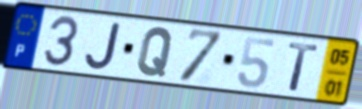3: (42, 14, 80, 69)
5: (236, 35, 276, 89)
7: (178, 27, 225, 85)
J: (83, 20, 124, 72)
Q: (135, 25, 176, 79)
T: (286, 40, 321, 94)
